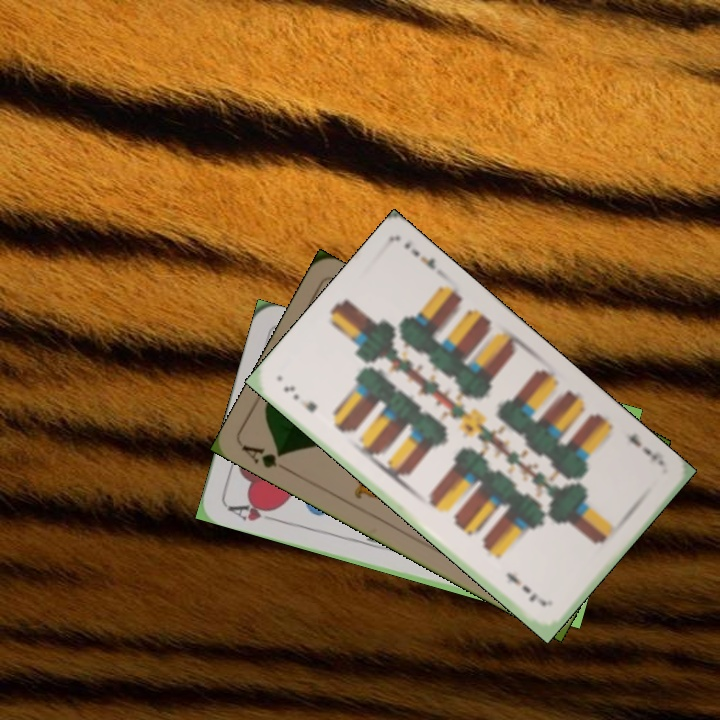E7: (624, 429, 668, 468), (279, 381, 320, 415)
GA: (238, 441, 294, 475)
HA: (223, 497, 282, 525)
